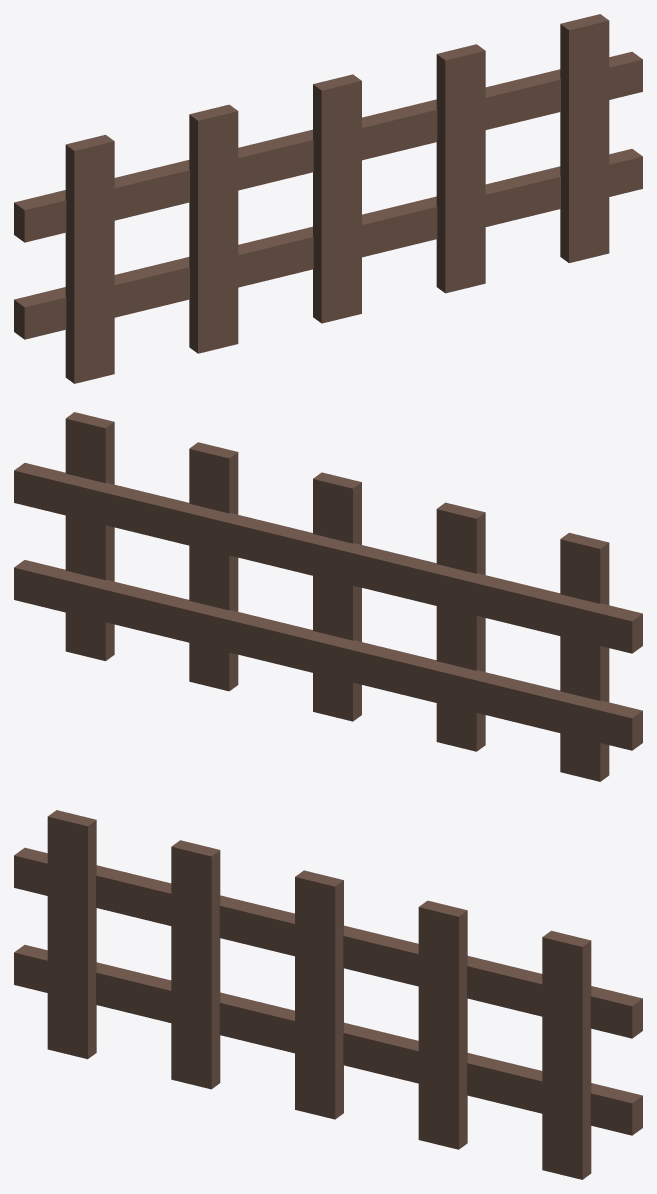
The model's file is fence.glb.
3 views of the same model, one above another, from view 1: azimuth 30°, elevation 25°; view 2: azimuth 150°, elevation 25°; view 3: azimuth 330°, elevation 25° (orthographic).
Parts seen in each view (by area): view 1: RailHigh, RailLow, P1, P0, P3, P4, P2; view 2: RailHigh, RailLow, P1, P0, P3, P4, P2; view 3: RailHigh, RailLow, P3, P0, P1, P4, P2.
Part boxes in pixels (box(x1,y1,x2,y2)): RailHigh: box(14, 51, 642, 242); RailLow: box(14, 149, 642, 339); P1: box(189, 104, 238, 353); P0: box(65, 134, 114, 383); P3: box(436, 44, 485, 293); P4: box(560, 14, 609, 263); P2: box(313, 74, 361, 323); RailHigh: box(14, 463, 642, 653); RailLow: box(14, 560, 642, 750); P1: box(436, 502, 485, 751); P0: box(560, 532, 609, 781); P3: box(189, 442, 238, 691); P4: box(65, 412, 114, 661); P2: box(313, 472, 361, 721); RailHigh: box(14, 847, 642, 1038); RailLow: box(14, 945, 642, 1135); P3: box(418, 900, 467, 1149); P0: box(47, 810, 96, 1059); P1: box(171, 840, 220, 1089); P4: box(542, 930, 591, 1179); P2: box(295, 870, 343, 1119).
Bounding box in the file's own units: 2 × 0.72 × 0.105.
